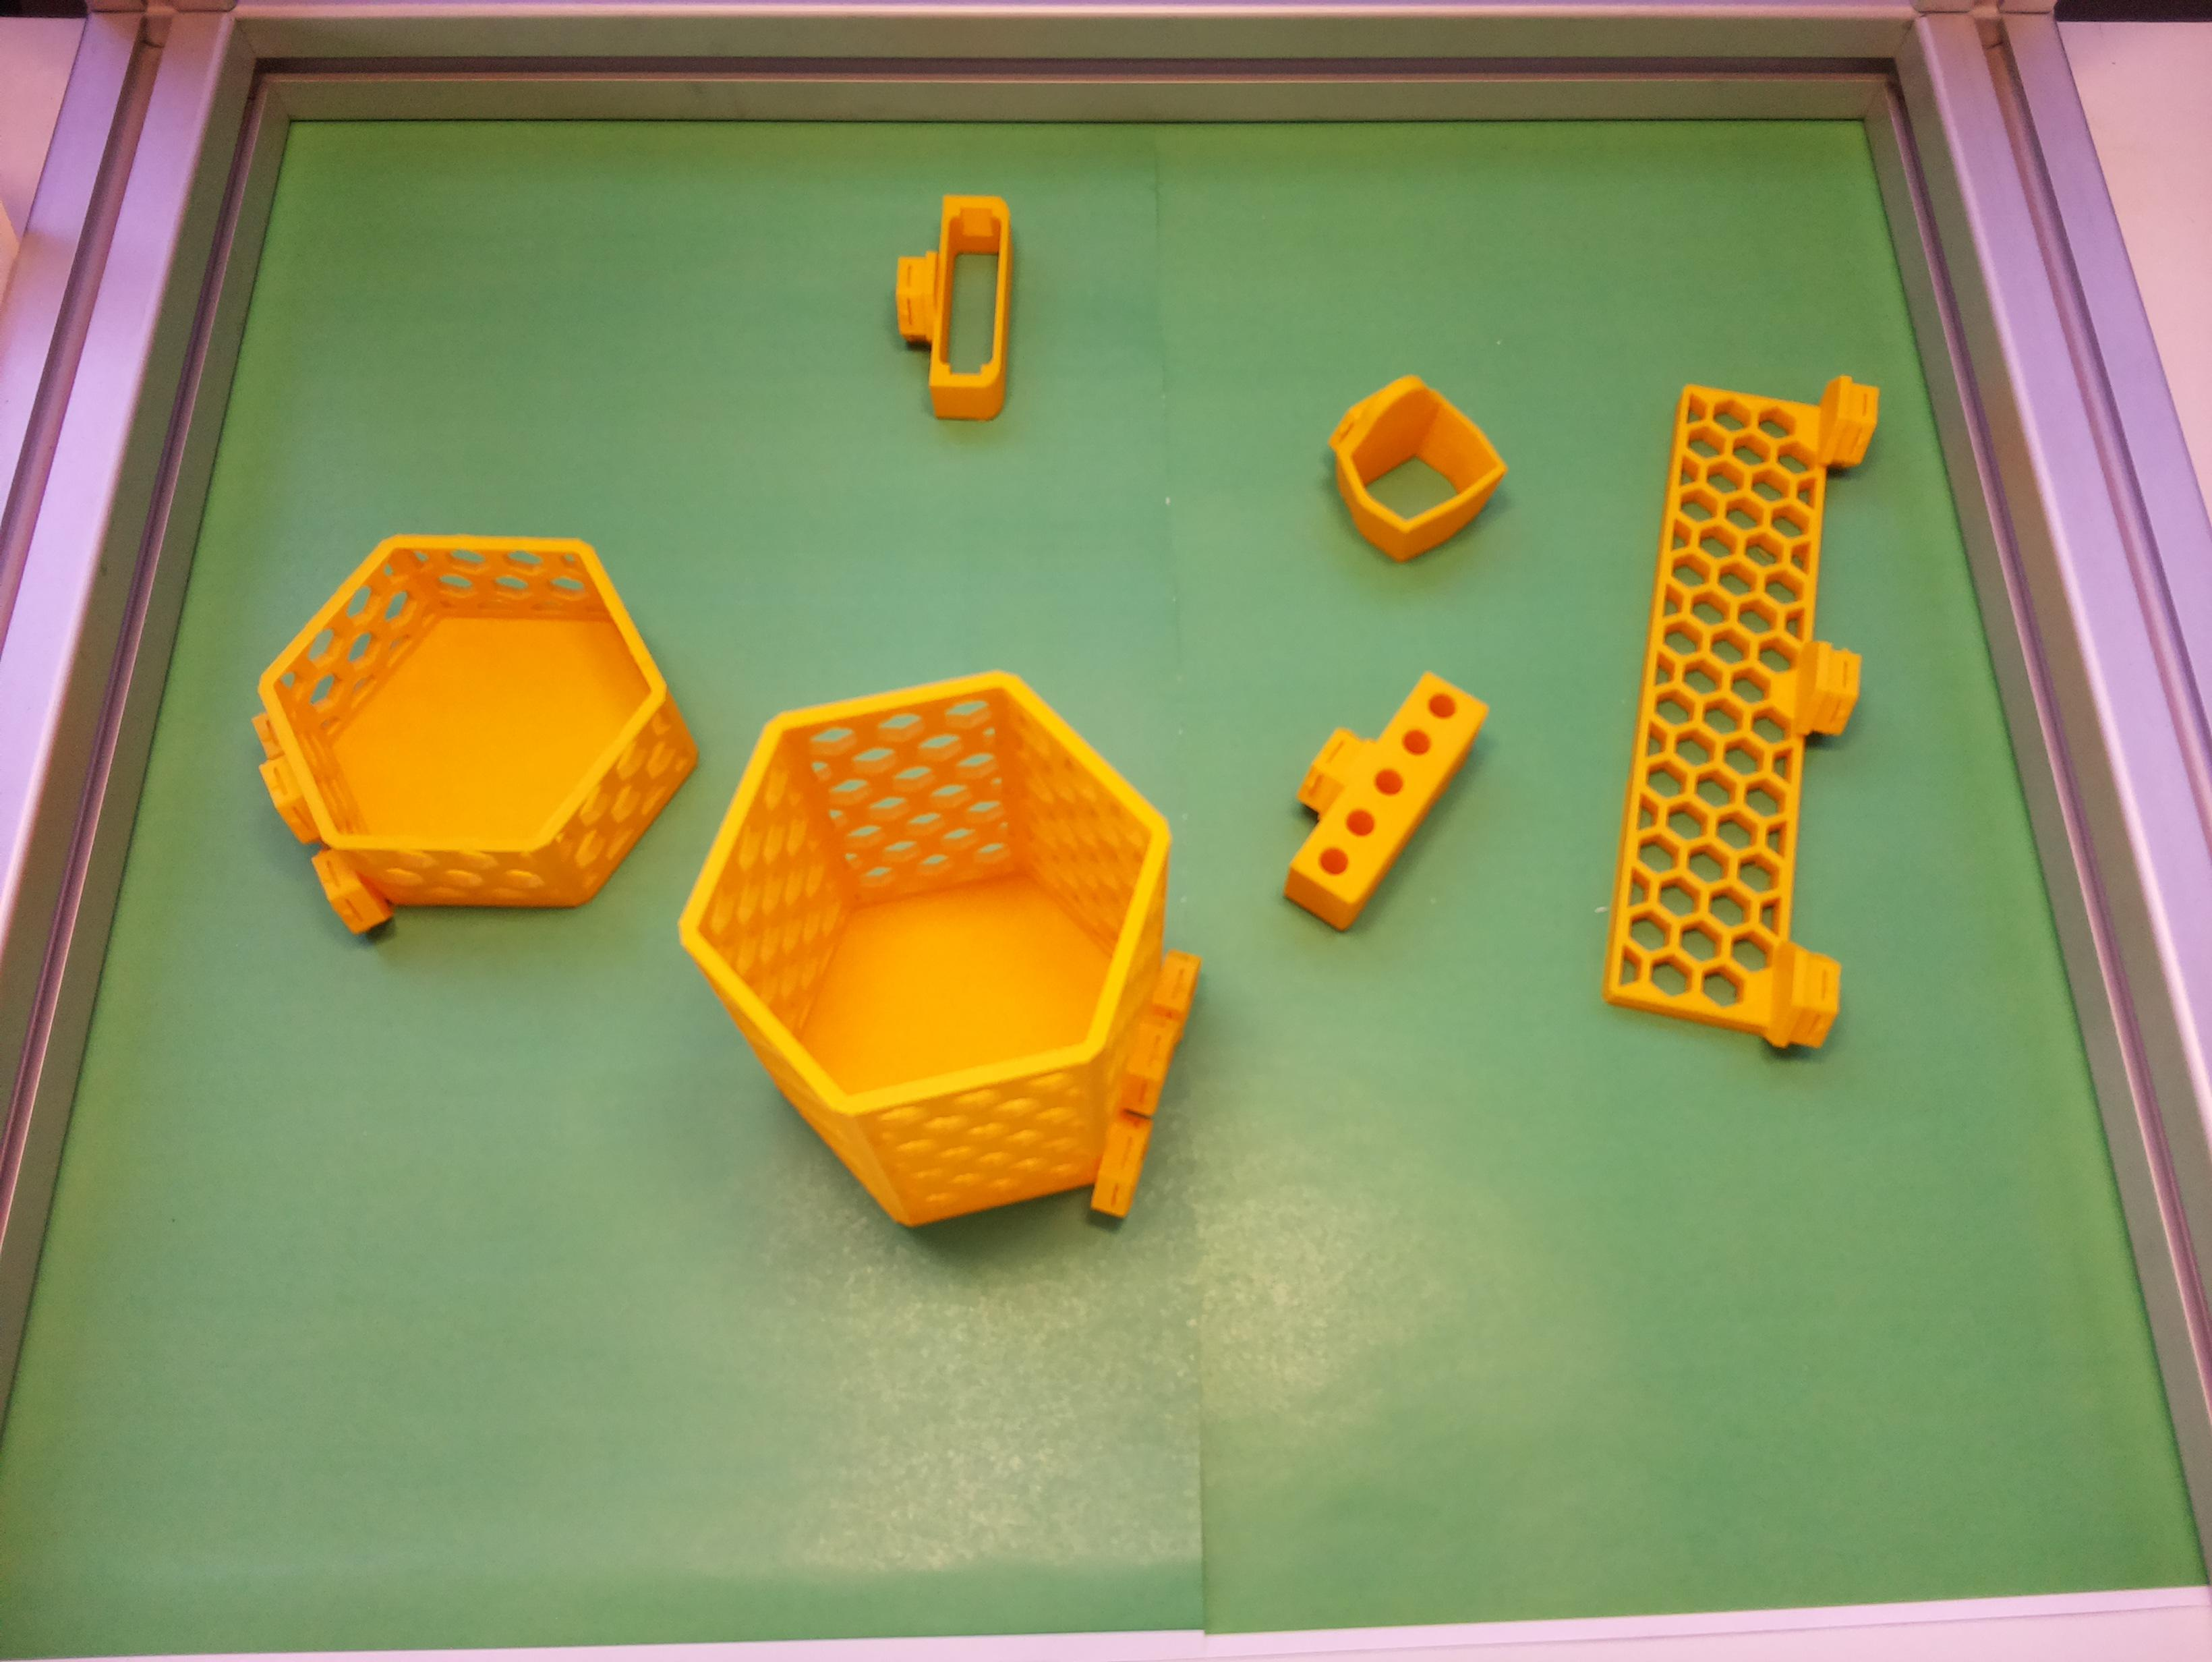bit_holder: (1241, 642, 1498, 936)
bottle_holder: (190, 456, 738, 1009)
cup_holder: (595, 571, 1341, 1330)
cutter_holder: (887, 190, 1020, 424)
scissor_holder: (1297, 354, 1519, 580)
tool_holder: (1599, 363, 1880, 1053)
